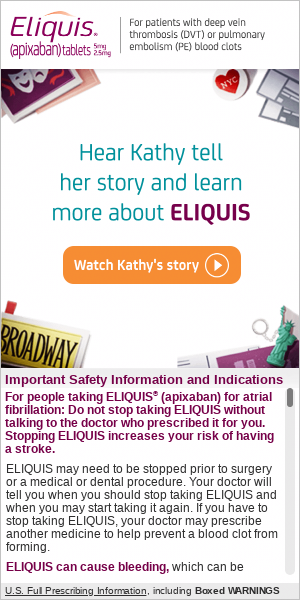fake_button: (36, 236, 262, 304)
